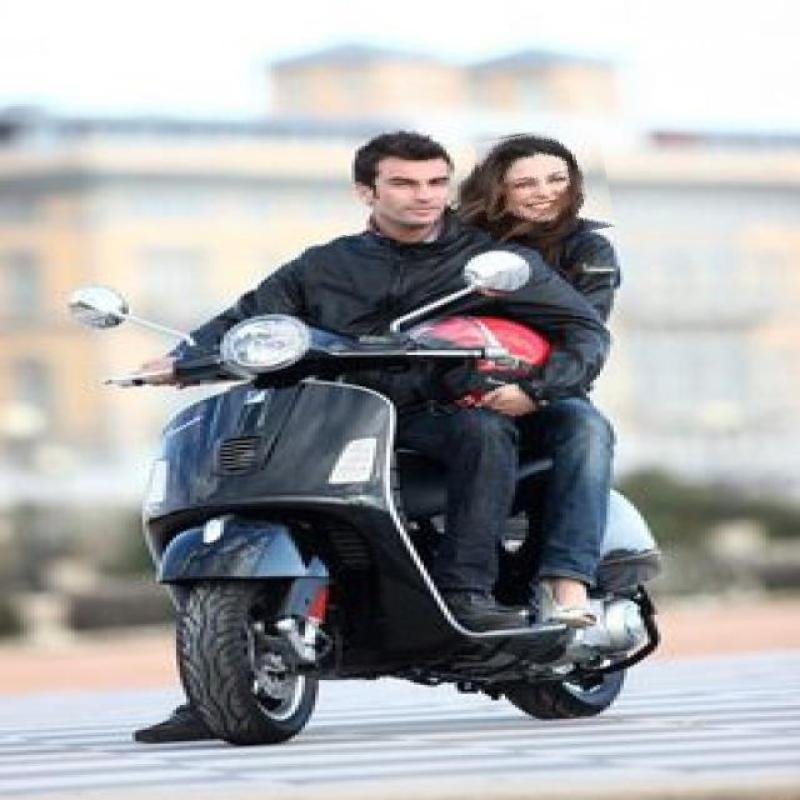nohelmet: (478, 127, 611, 244), (346, 130, 454, 240)
